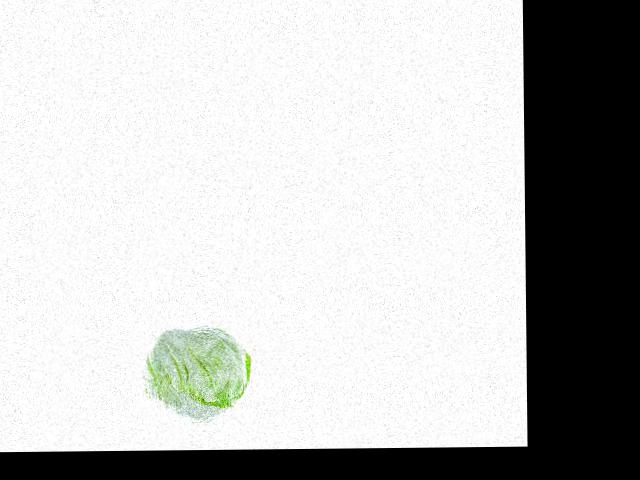lettuce: (143, 331, 249, 421)
